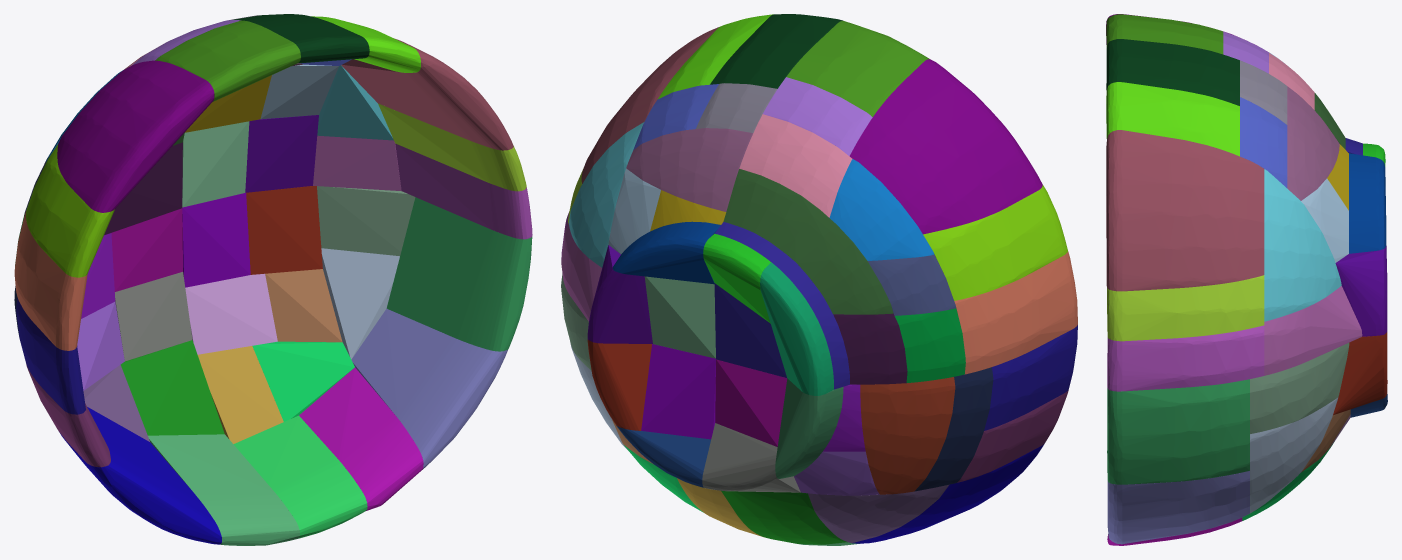
Rendered from coacd_collision.obj.
The picture shows the model from 3 angles, left to right: view 1: azimuth 30°, elevation 25°; view 2: azimuth 150°, elevation 25°; view 3: azimuth 270°, elevation 25°; orthographic projection. The views are drawn at different scales.
Parts seen in each view (by area): view 1: geometry_10, geometry_11, geometry_12, geometry_3, geometry_22, geometry_36, geometry_5, geometry_13, geometry_8, geometry_30, geometry_38, geometry_15 (+27 smaller); view 2: geometry_11, geometry_19, geometry_4, geometry_9, geometry_31, geometry_18, geometry_30, geometry_41, geometry_24, geometry_32, geometry_29, geometry_53 (+34 smaller); view 3: geometry_13, geometry_10, geometry_38, geometry_34, geometry_12, geometry_2, geometry_17, geometry_25, geometry_0, geometry_7, geometry_6, geometry_41 (+15 smaller).
Part boxes in pixels (x1=…): geometry_10: x1=386, y1=197, x2=532, y2=351; geometry_11: x1=57, y1=60, x2=214, y2=212; geometry_12: x1=351, y1=308, x2=507, y2=469; geometry_3: x1=148, y1=434, x2=299, y2=545; geometry_22: x1=299, y1=367, x2=423, y2=510; geometry_36: x1=233, y1=415, x2=367, y2=538; geometry_5: x1=59, y1=407, x2=221, y2=544; geometry_13: x1=341, y1=38, x2=513, y2=150; geometry_8: x1=120, y1=340, x2=224, y2=435; geometry_30: x1=155, y1=20, x2=300, y2=101; geometry_38: x1=395, y1=143, x2=532, y2=239; geometry_15: x1=246, y1=186, x2=322, y2=274; geometry_11: x1=849, y1=59, x2=1042, y2=234; geometry_19: x1=723, y1=169, x2=893, y2=314; geometry_4: x1=923, y1=185, x2=1067, y2=300; geometry_9: x1=954, y1=251, x2=1077, y2=374; geometry_31: x1=860, y1=377, x2=955, y2=494; geometry_18: x1=714, y1=222, x2=849, y2=389; geometry_30: x1=786, y1=21, x2=929, y2=116; geometry_41: x1=626, y1=128, x2=752, y2=211; geometry_24: x1=739, y1=114, x2=852, y2=217; geometry_32: x1=641, y1=344, x2=715, y2=439; geometry_29: x1=829, y1=159, x2=934, y2=260; geometry_53: x1=760, y1=262, x2=833, y2=395; geometry_13: x1=1106, y1=130, x2=1264, y2=291; geometry_10: x1=1107, y1=379, x2=1249, y2=484; geometry_38: x1=1107, y1=325, x2=1264, y2=391; geometry_34: x1=1107, y1=275, x2=1264, y2=341; geometry_12: x1=1107, y1=471, x2=1249, y2=544; geometry_2: x1=1264, y1=169, x2=1341, y2=321; geometry_17: x1=1106, y1=82, x2=1239, y2=156; geometry_25: x1=1106, y1=39, x2=1239, y2=105; geometry_0: x1=1250, y1=343, x2=1349, y2=433; geometry_7: x1=1264, y1=286, x2=1362, y2=375; geometry_6: x1=1250, y1=397, x2=1338, y2=513; geometry_41: x1=1287, y1=86, x2=1339, y2=200.
Bounding box in the file's own units: 119 × 119 × 62.85.
